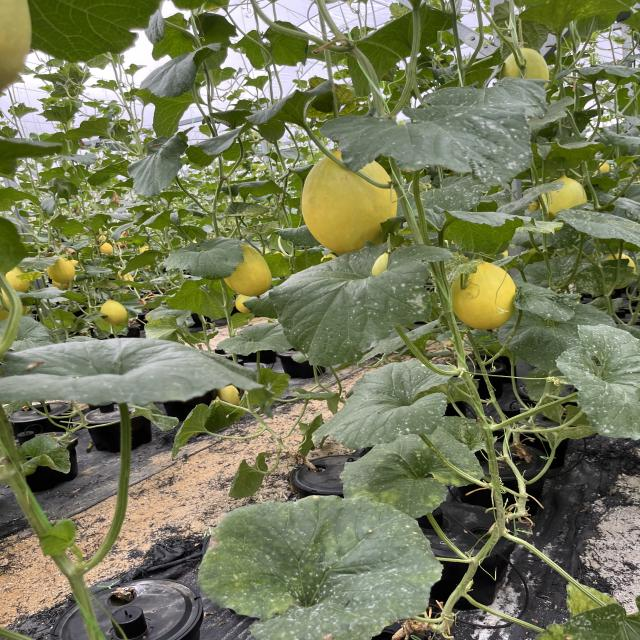SLCV: (13, 434, 70, 477)
downy mildew: (196, 496, 442, 640), (344, 428, 483, 507), (514, 0, 624, 38), (403, 178, 509, 208)
healthy: (32, 0, 174, 69), (402, 208, 536, 254), (132, 10, 236, 67), (136, 40, 218, 97), (236, 19, 313, 73), (126, 135, 187, 198), (254, 90, 322, 127)
powdery mildew: (190, 495, 445, 640), (257, 242, 438, 368), (310, 96, 538, 180), (338, 427, 491, 524), (308, 362, 462, 449), (552, 324, 640, 440), (555, 201, 640, 252)
